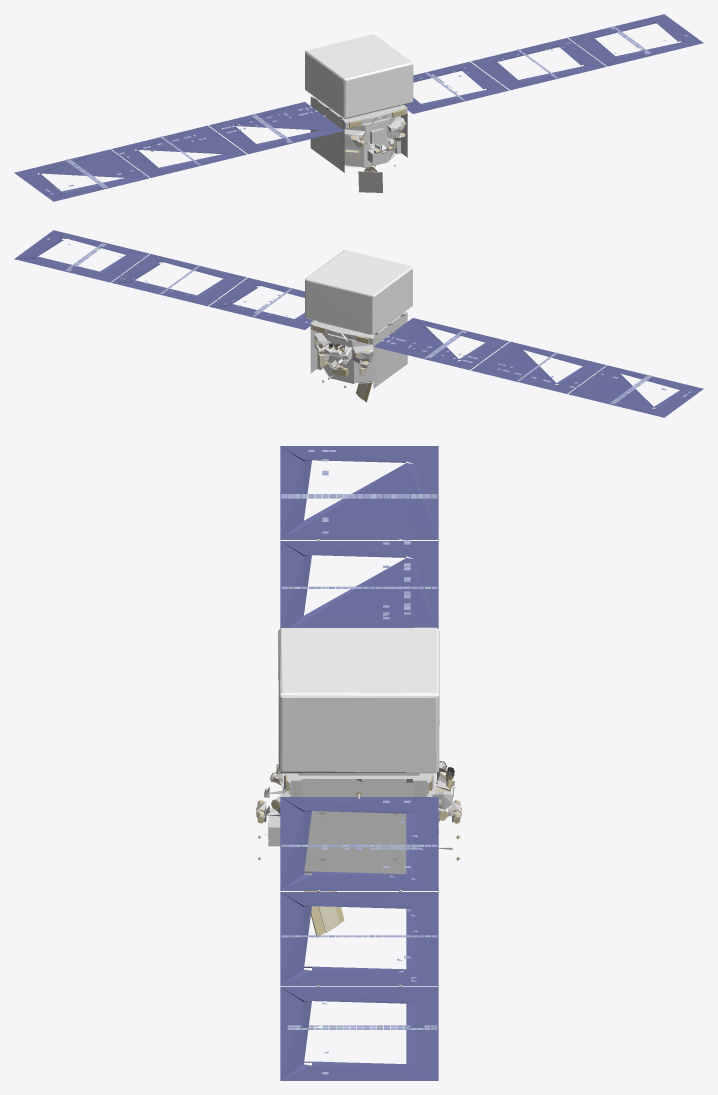
The model's file is fermi.glb.
3 views of the same model, one above another, from view 1: azimuth 30°, elevation 25°; view 2: azimuth 150°, elevation 25°; view 3: azimuth 270°, elevation 25° (orthographic). The views are drawn at different scales.
Parts seen in each view (by area): view 1: Layer_1, Layer_2, Layer_0; view 2: Layer_1, Layer_2, Layer_0; view 3: Layer_1, Layer_2, Layer_0.
Boxes of the visible parts, x1,y1,x2,y2 form: Layer_1: (14,14,703,201); Layer_2: (305,34,413,118); Layer_0: (310,96,407,192); Layer_1: (14,230,703,417); Layer_2: (305,250,412,334); Layer_0: (310,312,407,402); Layer_1: (280,446,438,1080); Layer_2: (278,627,439,773); Layer_0: (256,761,461,937).
Bounding box in the file's own units: 1 × 0.1941 × 0.137.
